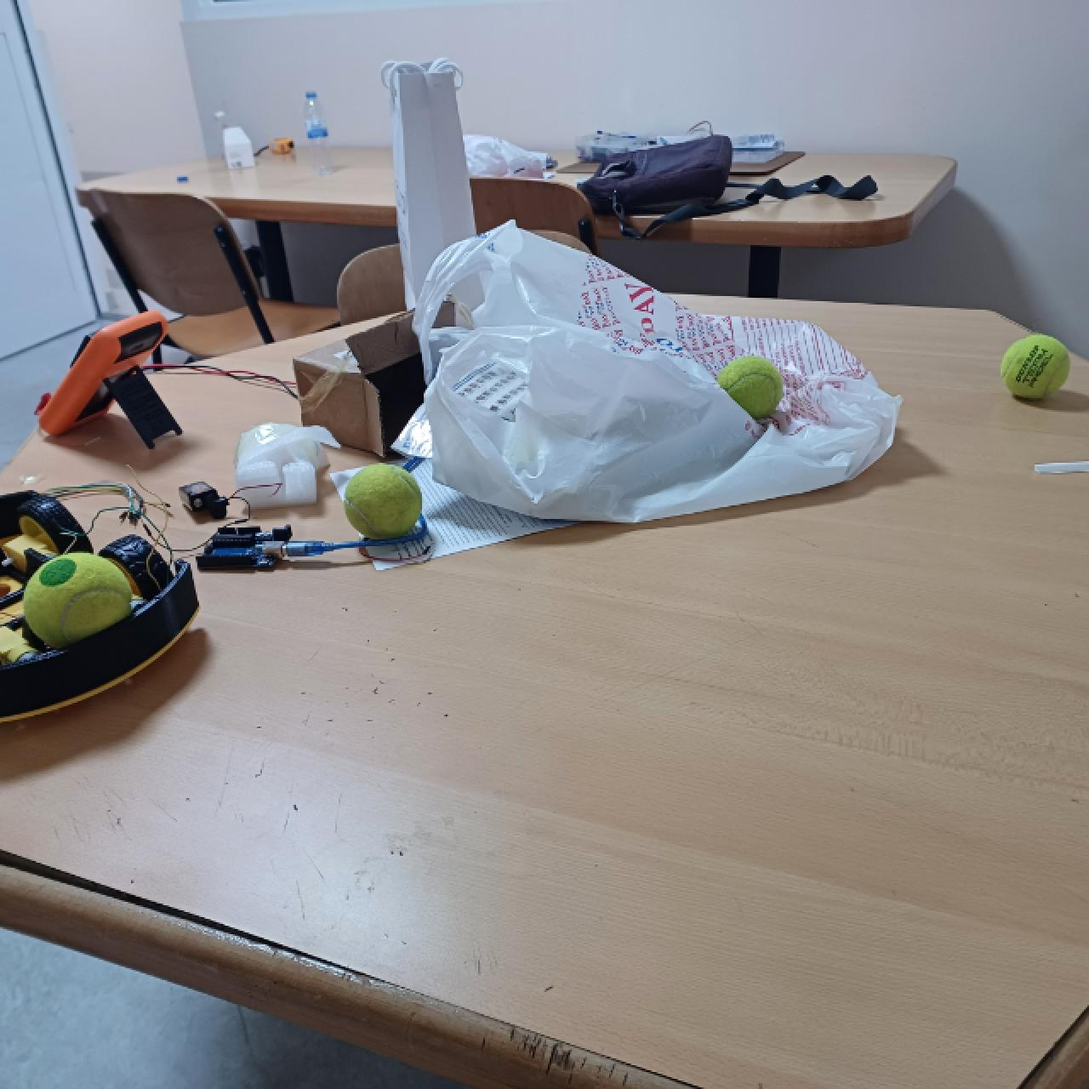tennis-ball: (23, 550, 134, 647), (344, 463, 423, 541), (715, 355, 784, 420), (1002, 335, 1068, 399)
